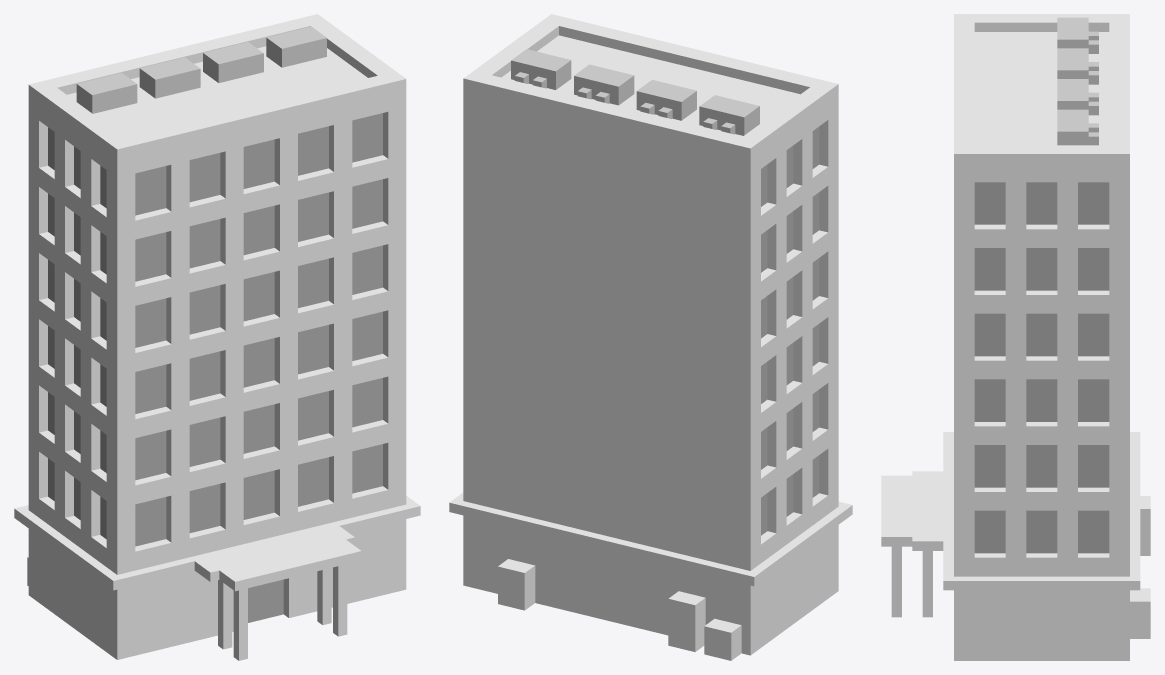
File: building_7.obj
3 renders of one model, left to right at view 1: azimuth 30°, elevation 25°; view 2: azimuth 150°, elevation 25°; view 3: azimuth 270°, elevation 25°, orthographic.
Size of the model in its own units: 3.4 by 5.5 by 2.6.
1 material, 1 textured.
